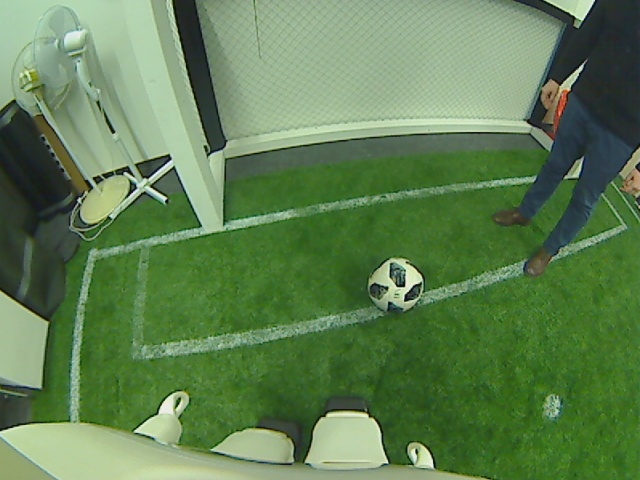ball: (364, 256, 426, 313)
